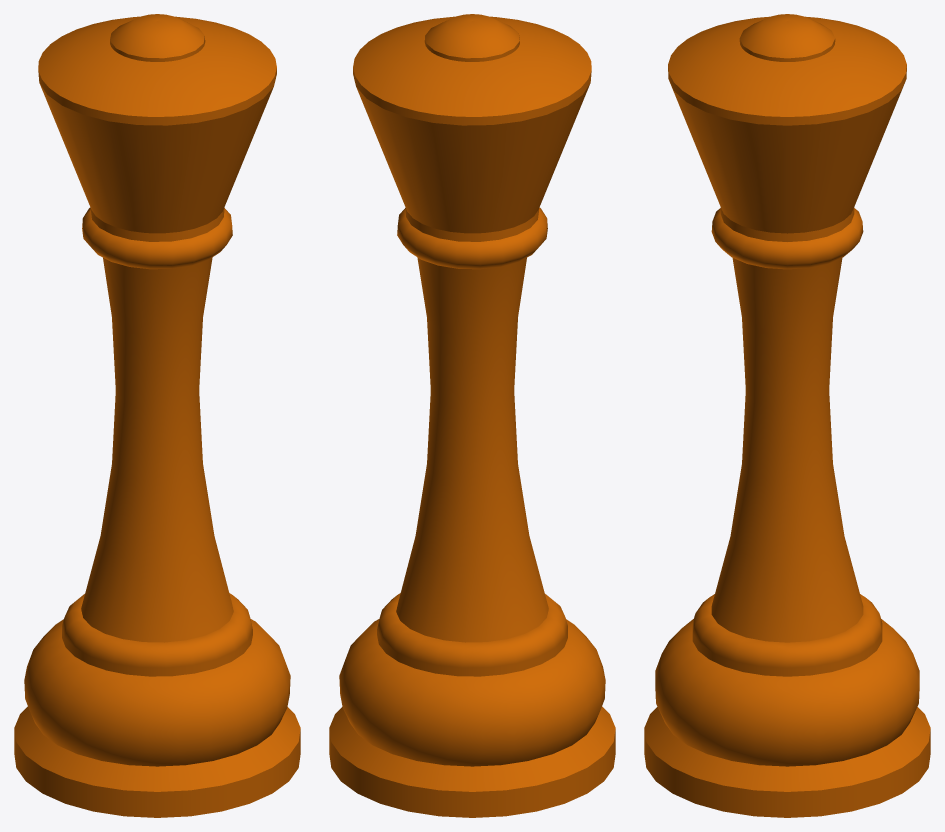
File: king.glb
3 views of the same model, side by side, from view 1: azimuth 30°, elevation 25°; view 2: azimuth 150°, elevation 25°; view 3: azimuth 270°, elevation 25° (orthographic).
Size of the model in its own units: 0.0299 by 0.085 by 0.0299.
